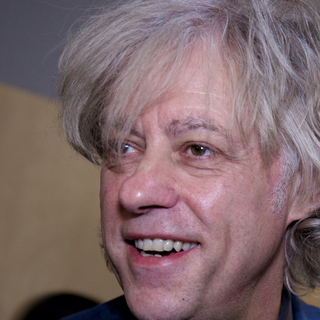eye: (171, 135, 222, 165), (101, 131, 144, 162)
